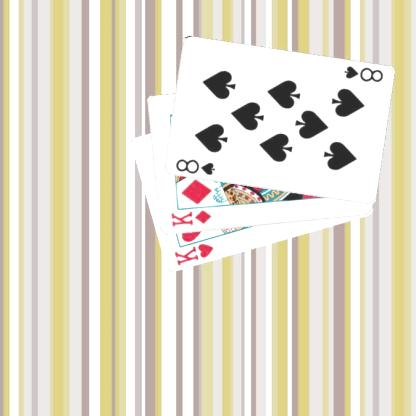8S: (172, 156, 217, 177), (341, 64, 384, 84)
KD: (168, 208, 213, 228)
KH: (172, 241, 214, 267)
